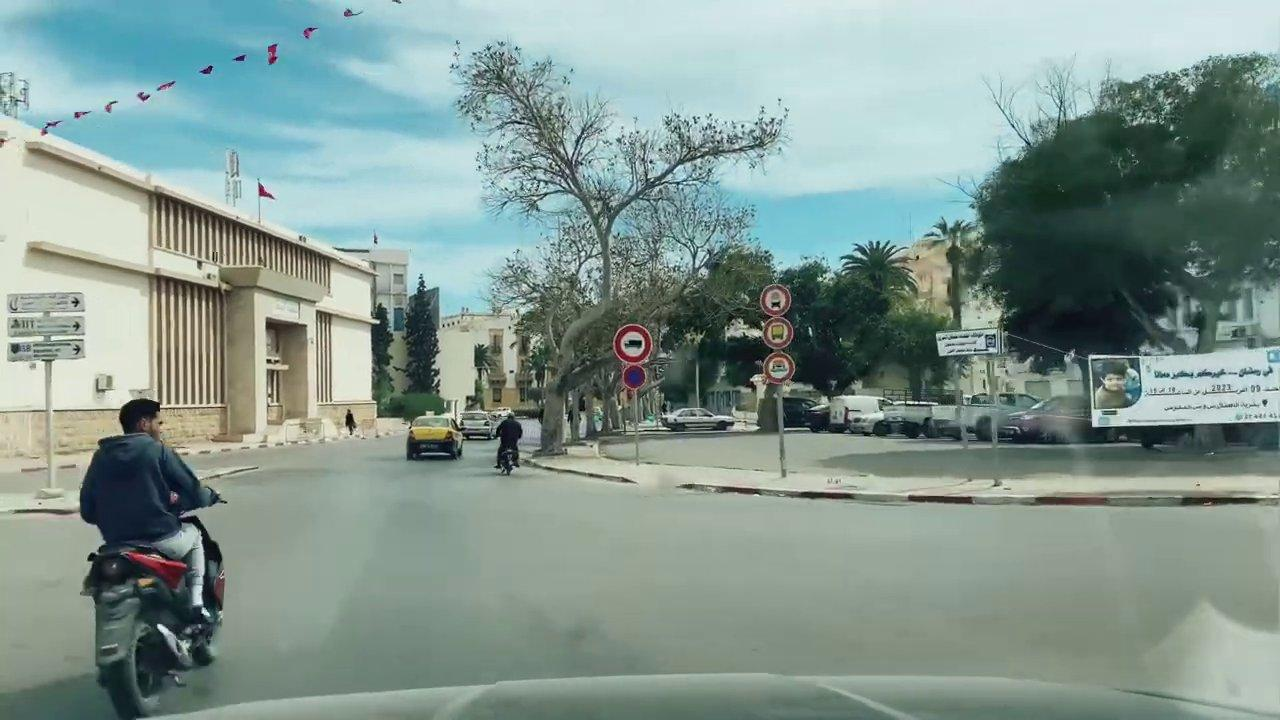no trucks: (612, 324, 653, 364)
no vehicles carrying dangerous goods: (763, 318, 794, 348)
no vehicles carrying explosives: (761, 284, 791, 316)
no vehicles carrying water pollutants: (762, 350, 795, 384)
